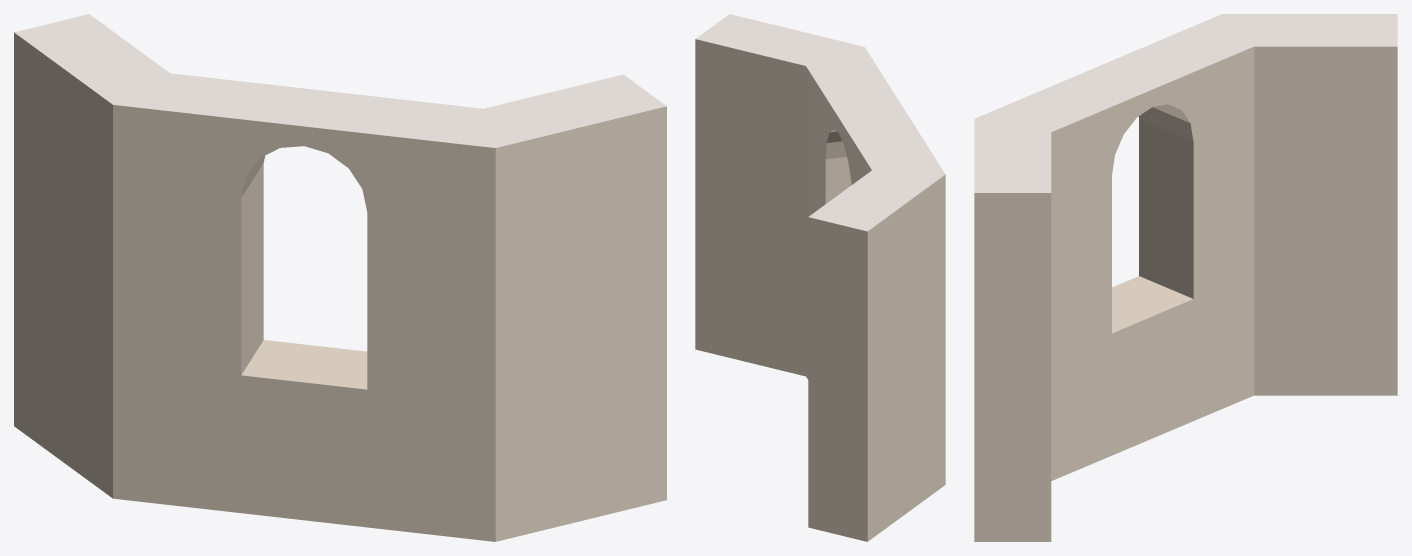
The model's file is temple_Wall_Curved_Small_Window.glb.
3 views of the same model, side by side, from view 1: azimuth 30°, elevation 25°; view 2: azimuth 150°, elevation 25°; view 3: azimuth 270°, elevation 25° (orthographic). The views are drawn at different scales.
Parts seen in each view (by area): view 1: object1; view 2: object1; view 3: object1.
Part boxes in pixels (box(x1,y1,x2,y2)): object1: box(14, 14, 666, 541); object1: box(695, 14, 945, 541); object1: box(974, 14, 1397, 541).
Size of the model in its own units: 1.1 by 1 by 1.1.
